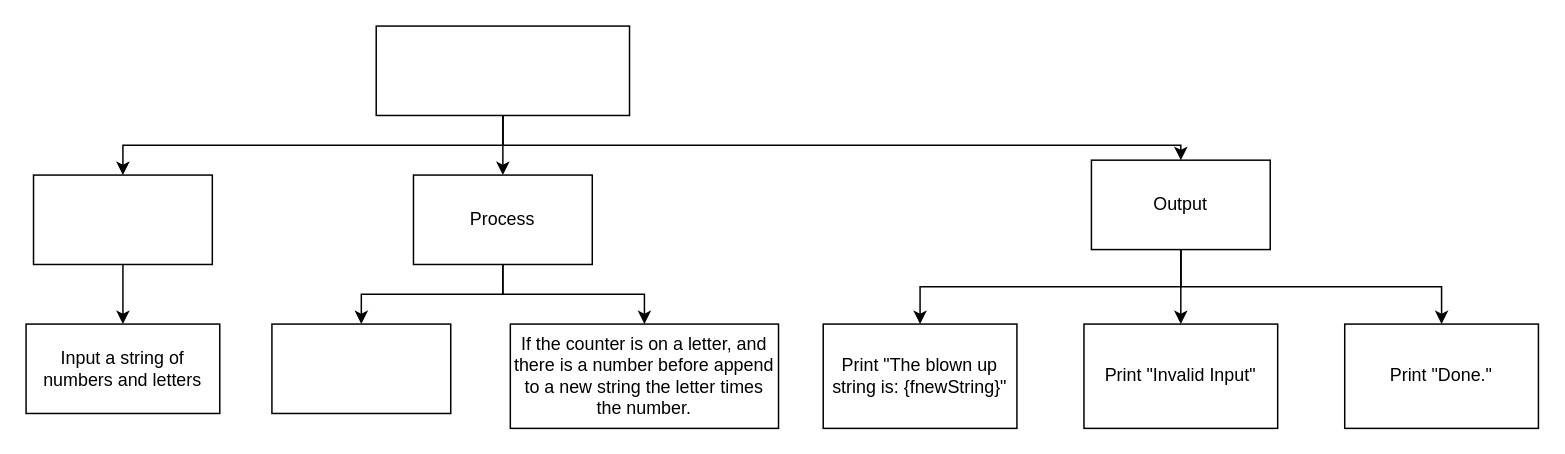
Image size: 1565x454. Some labels were removed from this diagram. The centre of each missing label's shape, as x and y in pixels:
"Determine whether a character represents a digit in a string" goes at (360,368).
"Input" goes at (122,219).
"String blow up" goes at (502,70).
